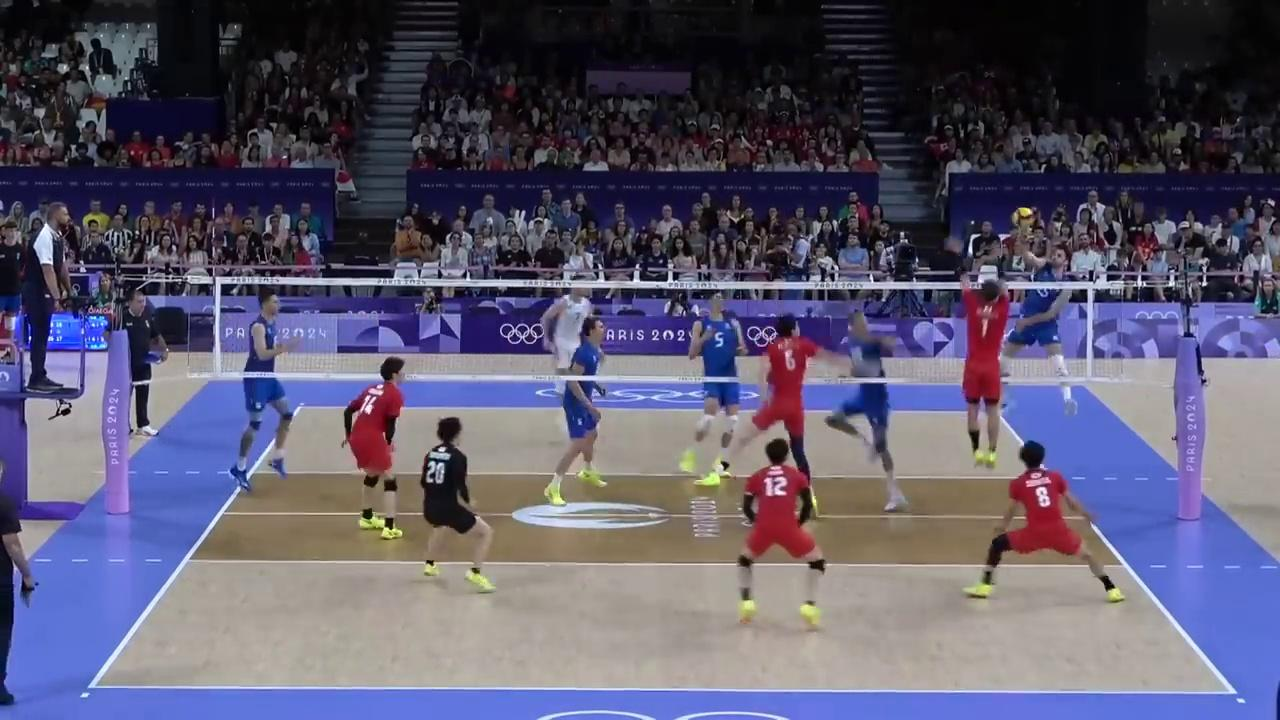ball: (1013, 206, 1033, 229)
